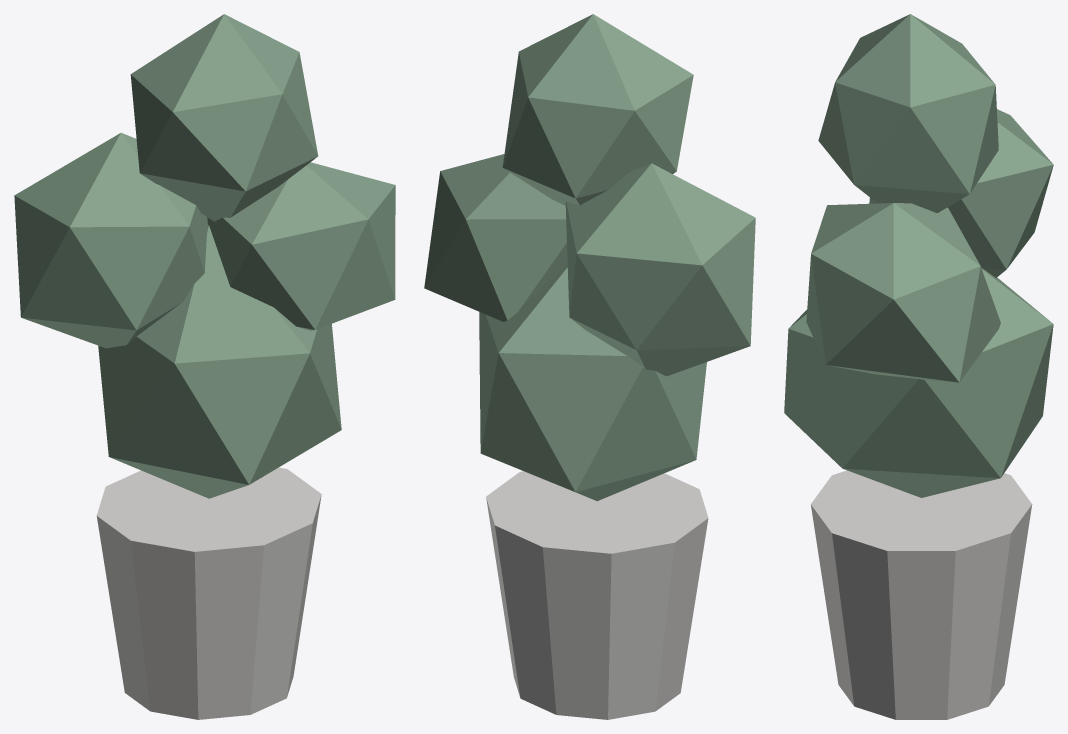
The model's file is plant.glb.
The picture shows the model from 3 angles, left to right: view 1: azimuth 30°, elevation 25°; view 2: azimuth 150°, elevation 25°; view 3: azimuth 270°, elevation 25°; orthographic projection.
Visible parts, largest first — view 1: plant; view 2: plant; view 3: plant.
Boxes of the visible parts, <box> form: plant: <box>14,14,395,719</box>; plant: <box>424,14,755,719</box>; plant: <box>784,14,1053,719</box>.
Size of the model in its own units: 0.7215 by 1.35 by 0.487.
